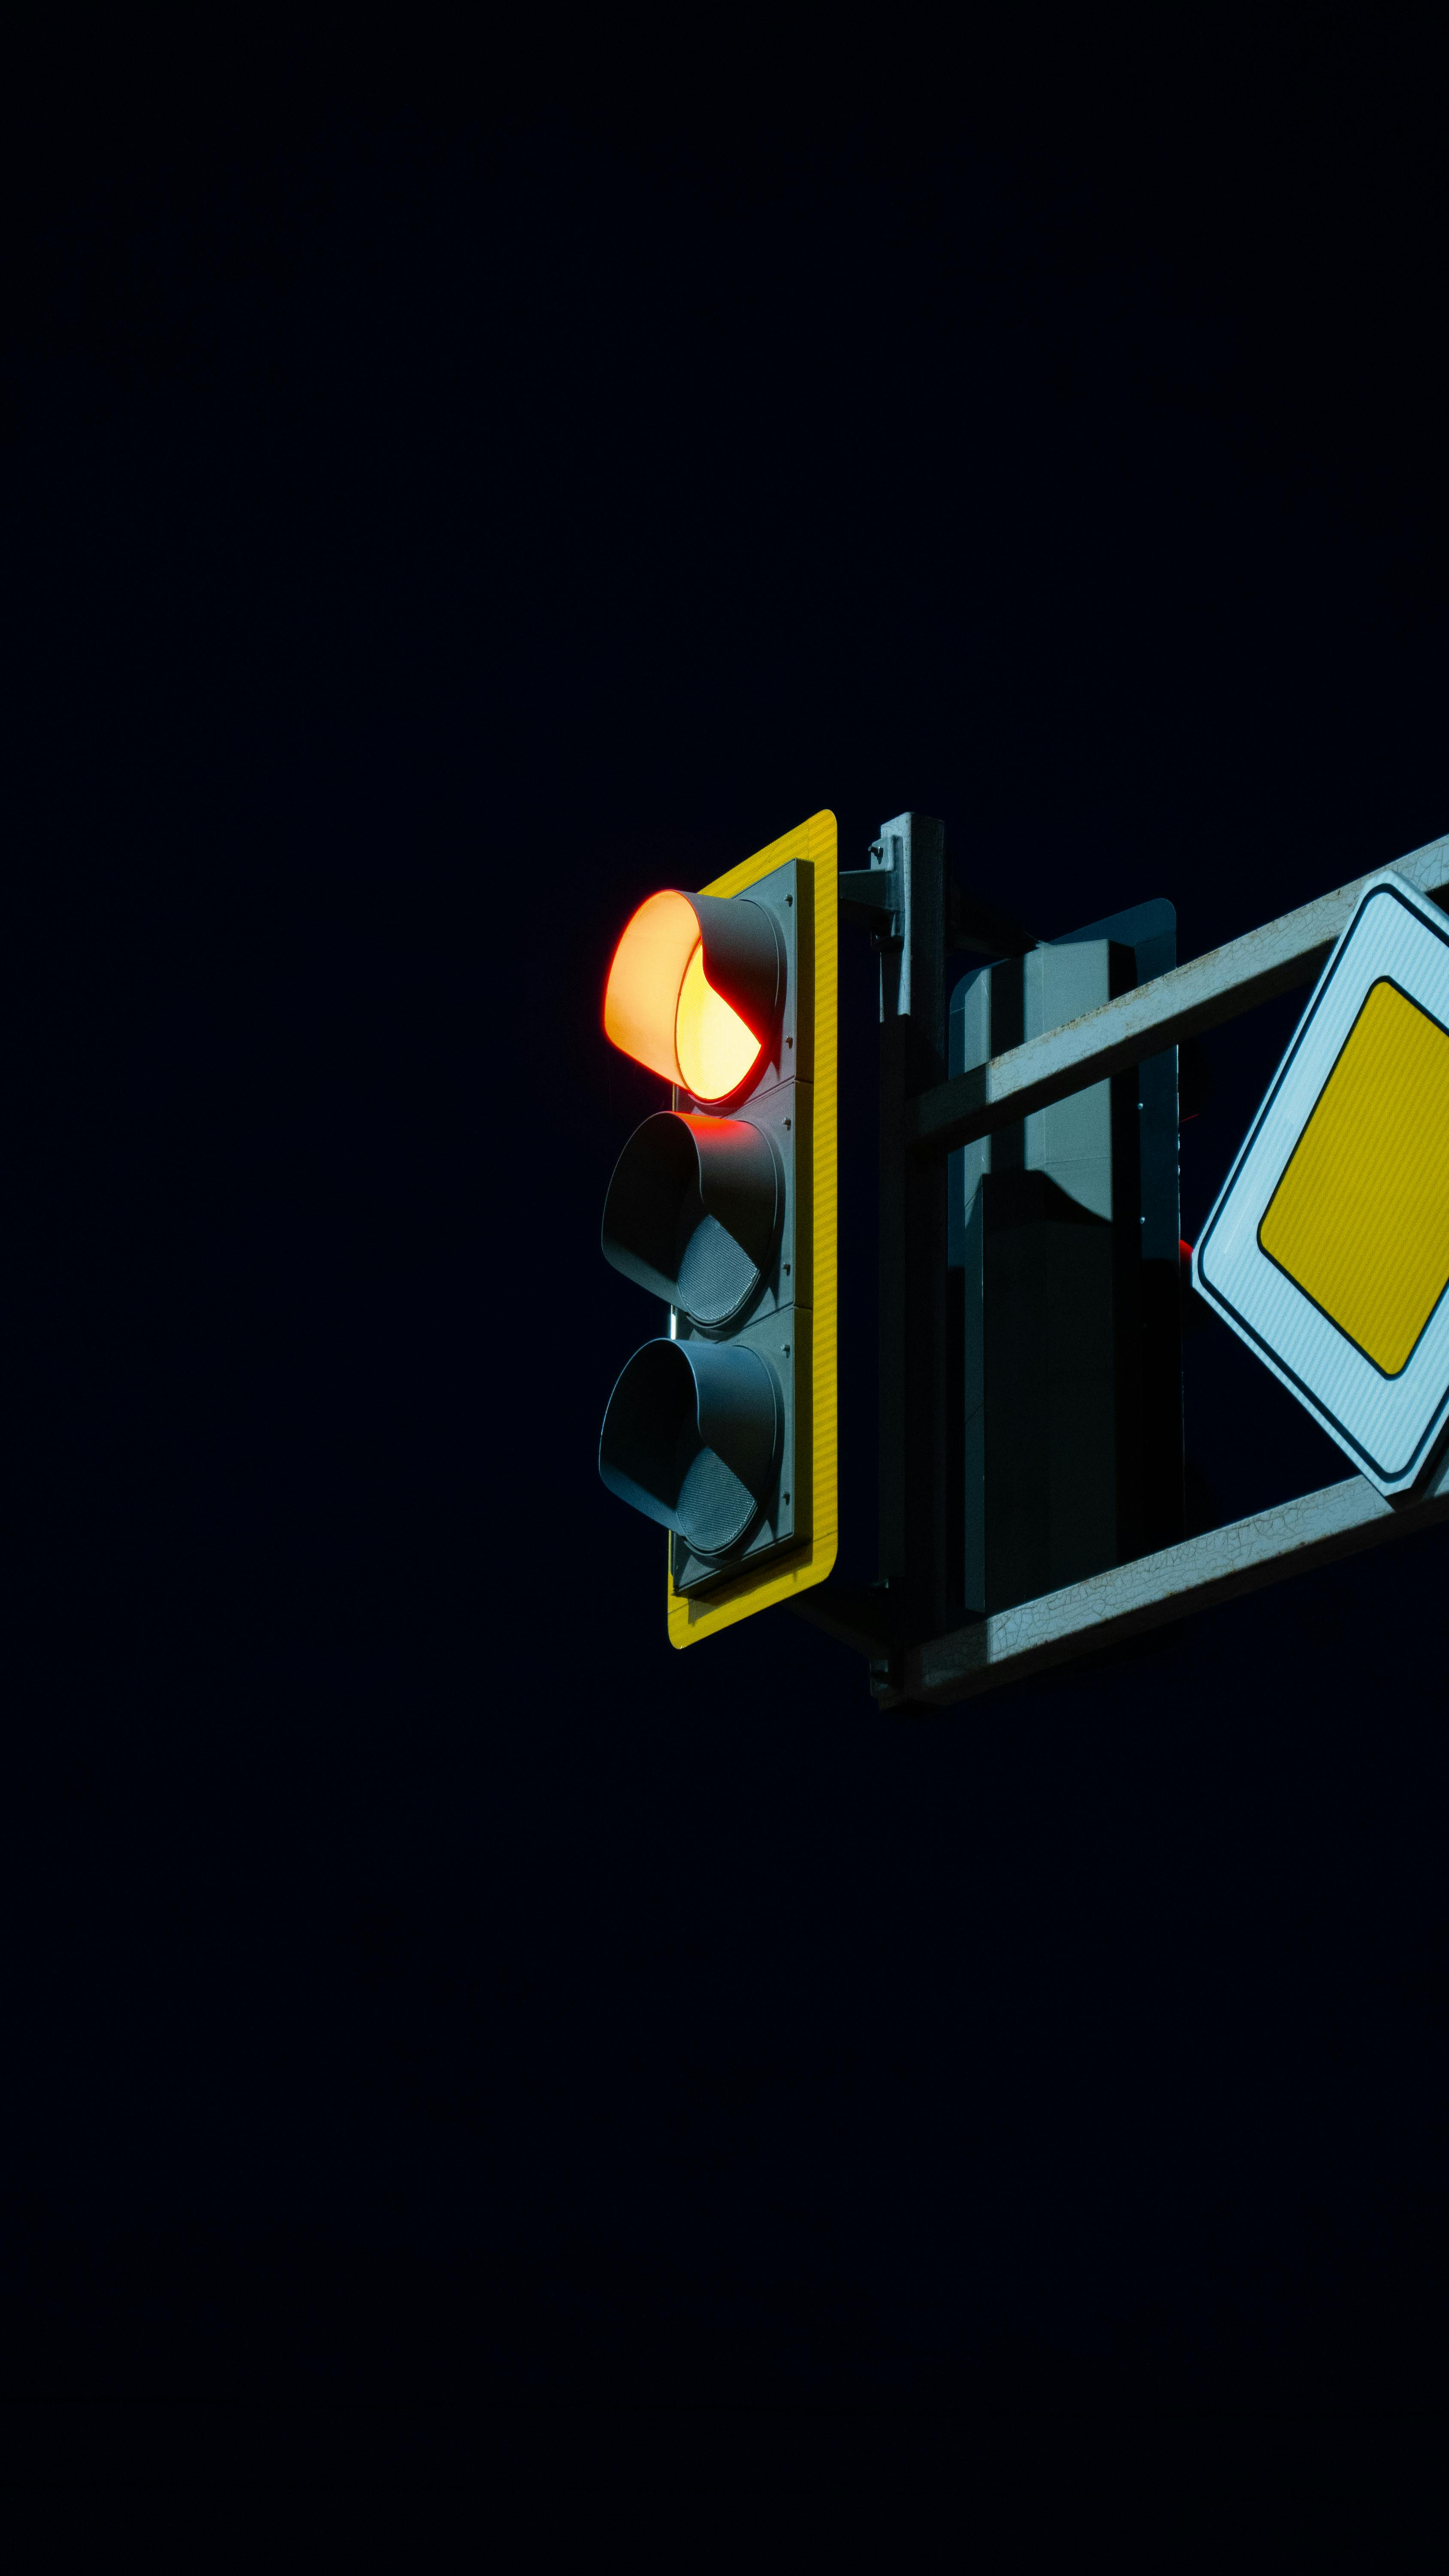trfl: (584, 902, 832, 1624)
